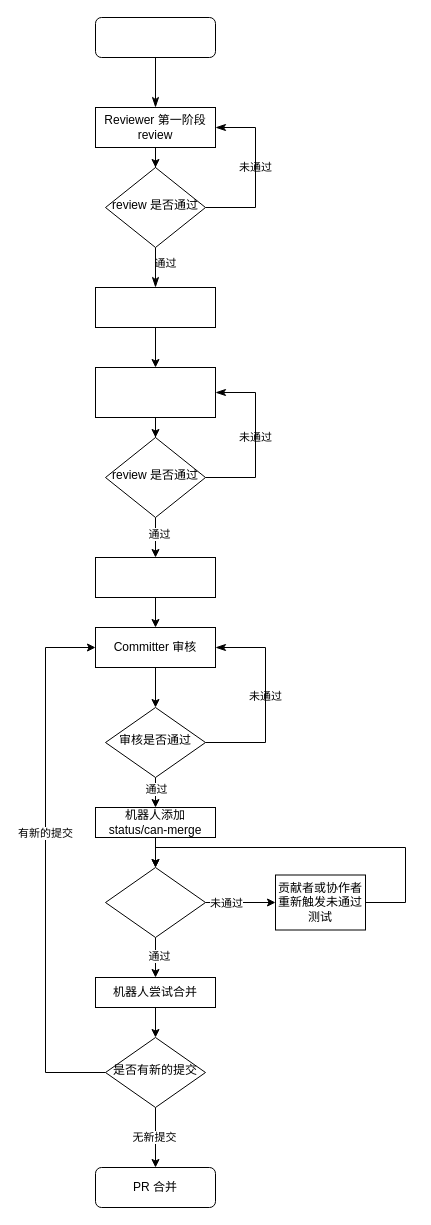
This 431x1225 diagram has some shape labels left out. Here are the shapes that lost their labels. From the top down, the centre of each, then its label:
pixel 155 37: 贡献者提交 PR
pixel 155 307: 机器人添加 status/LGT1
pixel 155 392: Reviewer 第二阶段 review
pixel 155 577: 机器人添加 status/LGT2
pixel 155 902: 测试是否通过
